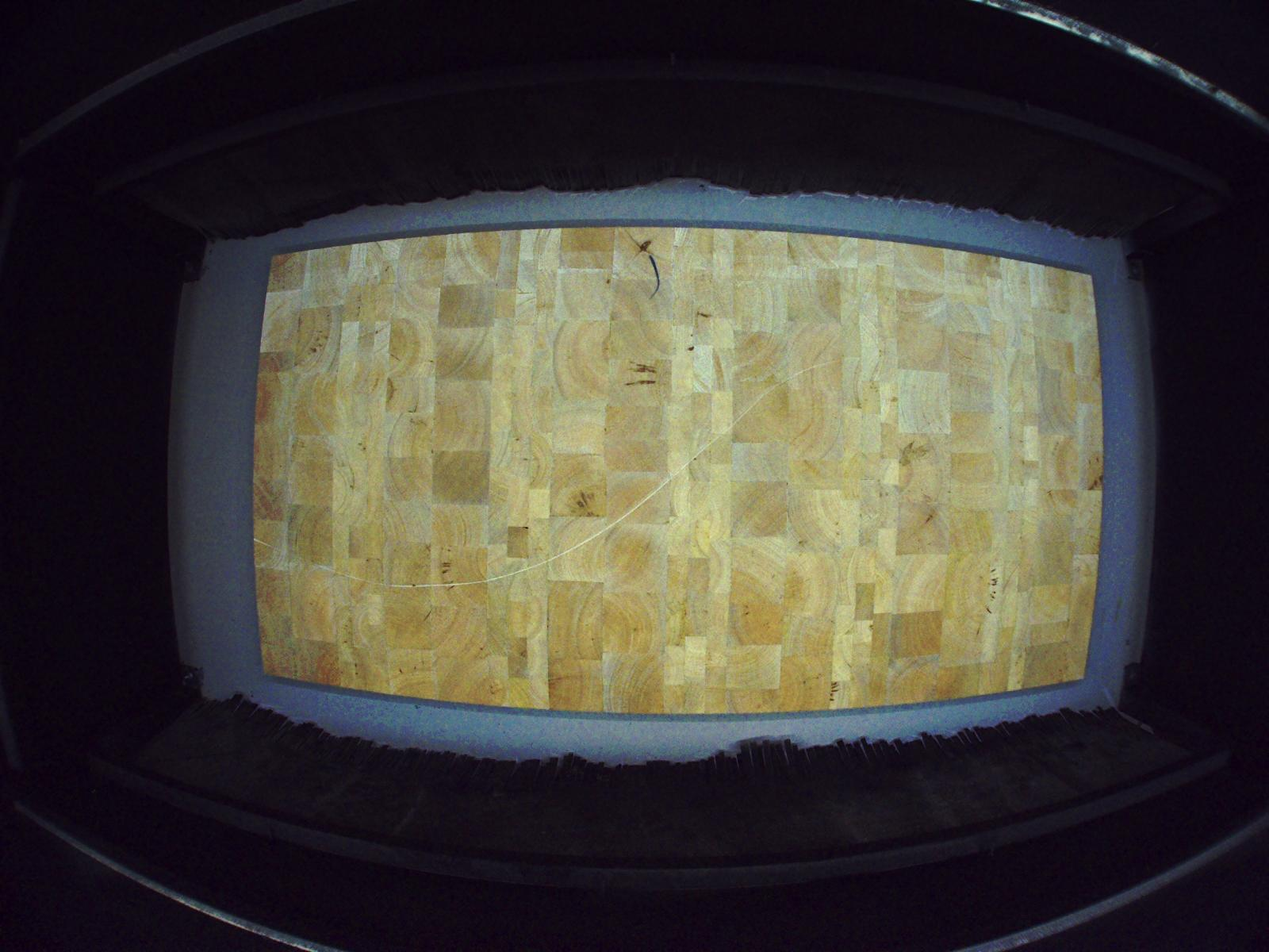sheck_ecuatoriano: (623, 227, 673, 263)
